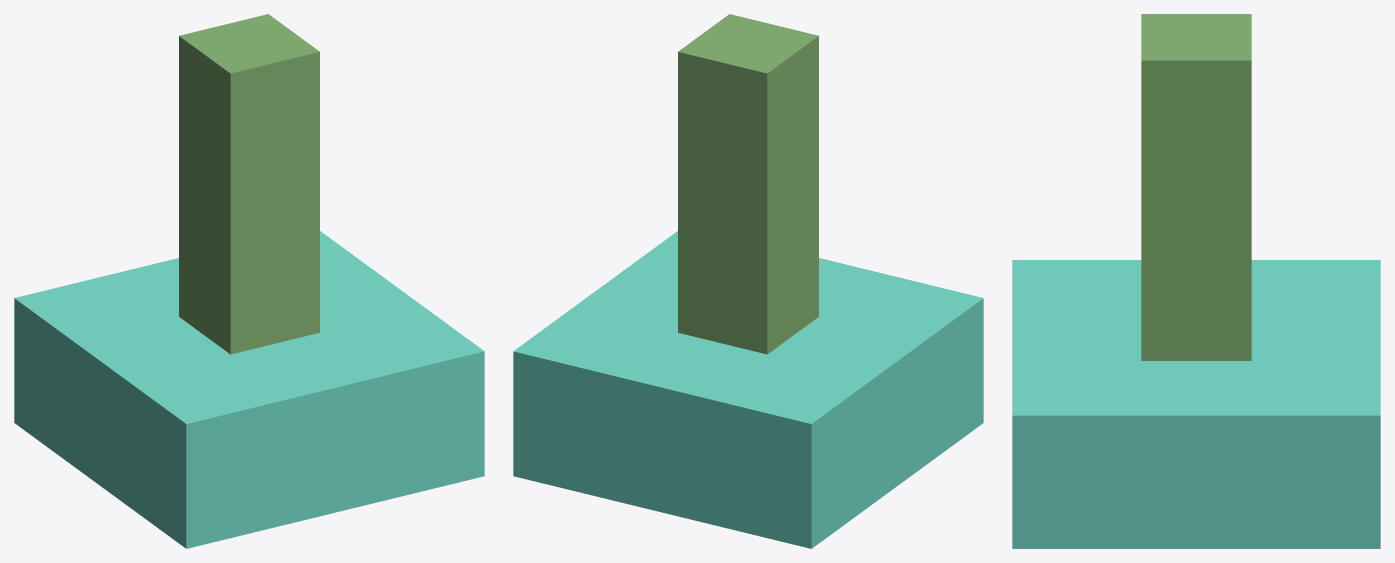
File: Item_DS_Herb_ChecksumClover.glb
3 renders of one model, left to right at view 1: azimuth 30°, elevation 25°; view 2: azimuth 150°, elevation 25°; view 3: azimuth 270°, elevation 25°, orthographic. The views are drawn at different scales.
Parts seen in each view (by area): view 1: Item_DS_Herb_ChecksumClover; view 2: Item_DS_Herb_ChecksumClover; view 3: Item_DS_Herb_ChecksumClover.
Part boxes in pixels (x1=…): Item_DS_Herb_ChecksumClover: x1=14, y1=14, x2=484, y2=548; Item_DS_Herb_ChecksumClover: x1=513, y1=14, x2=983, y2=548; Item_DS_Herb_ChecksumClover: x1=1012, y1=14, x2=1380, y2=548.
Size of the model in its own units: 0.2 by 0.26 by 0.2.
